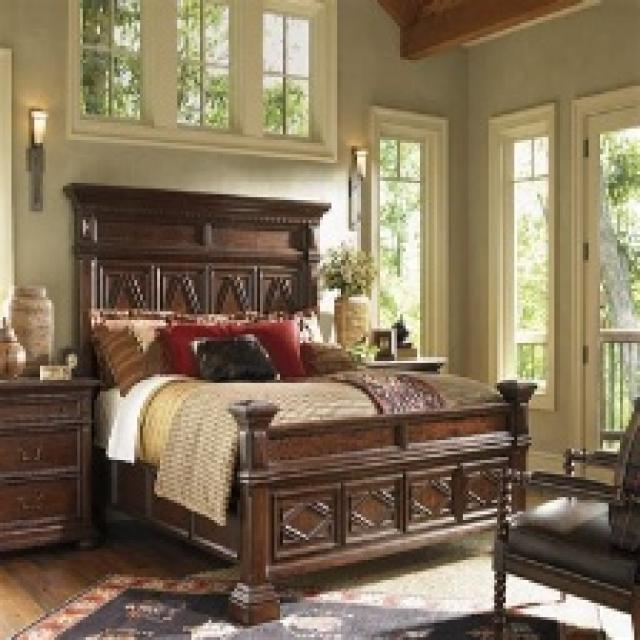Bed: (60, 180, 537, 626)
